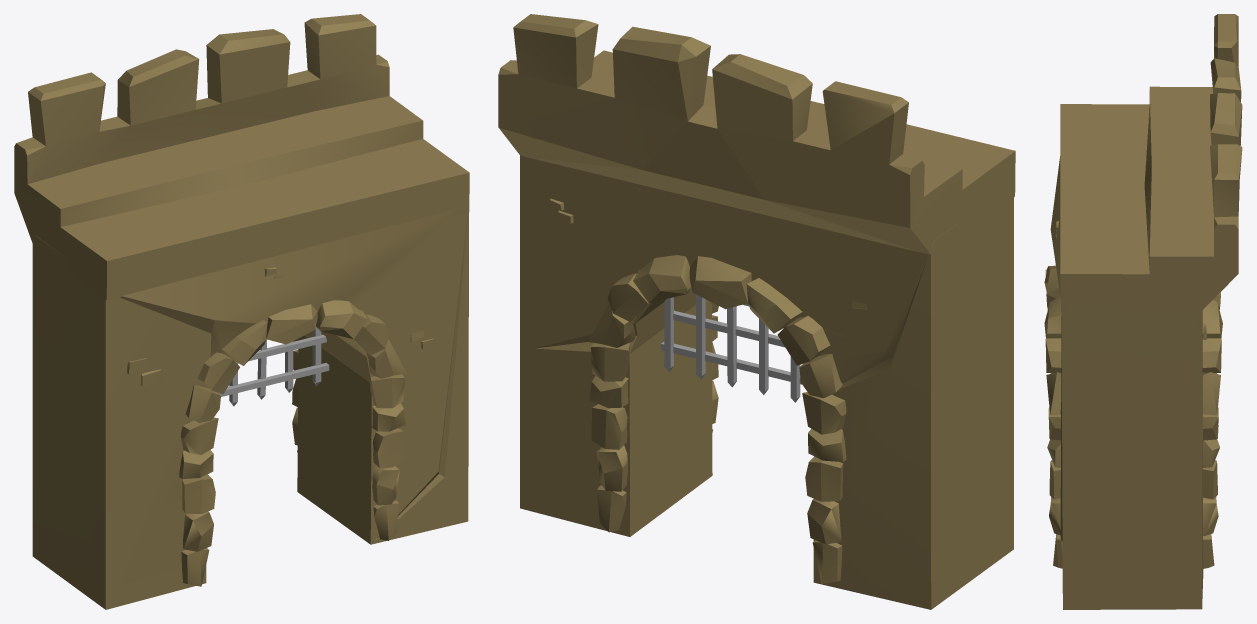
File: castlegate_east.obj
3 views of the same model, side by side, from view 1: azimuth 30°, elevation 25°; view 2: azimuth 150°, elevation 25°; view 3: azimuth 270°, elevation 25° (orthographic). The views are drawn at different scales.
Parts seen in each view (by area): view 1: Castle-gate.003_Untitled.153, castle-wall-top-half.008_Untitled.152, Castle-lattice-small.001_Untitled.154; view 2: Castle-gate.003_Untitled.153, castle-wall-top-half.008_Untitled.152, Castle-lattice-small.001_Untitled.154; view 3: Castle-gate.003_Untitled.153, castle-wall-top-half.008_Untitled.152.
Boxes of the visible parts, x1,y1,x2,y2 form: Castle-gate.003_Untitled.153: [32, 209, 468, 609]; castle-wall-top-half.008_Untitled.152: [14, 14, 469, 300]; Castle-lattice-small.001_Untitled.154: [218, 327, 329, 406]; Castle-gate.003_Untitled.153: [520, 155, 1013, 609]; castle-wall-top-half.008_Untitled.152: [498, 14, 1015, 254]; Castle-lattice-small.001_Untitled.154: [661, 289, 801, 402]; Castle-gate.003_Untitled.153: [1044, 156, 1222, 609]; castle-wall-top-half.008_Untitled.152: [1060, 14, 1242, 312].
Bounding box in the file's own units: 1.84 × 2.23 × 0.9051.
